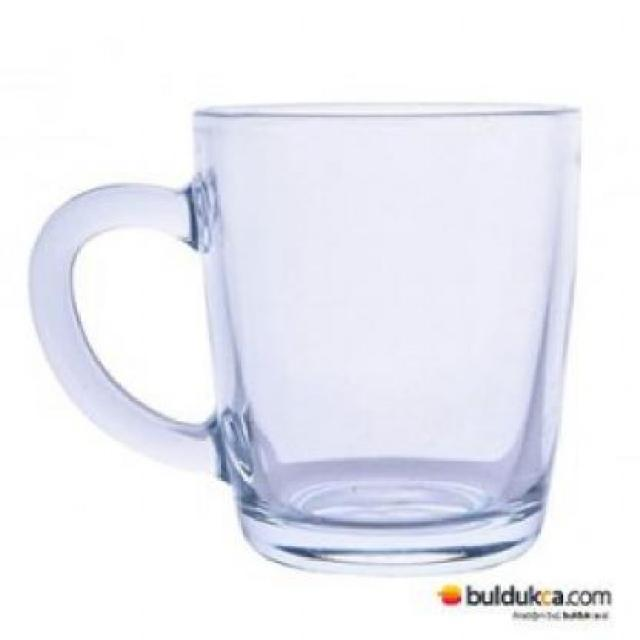taza: (19, 97, 594, 587)
